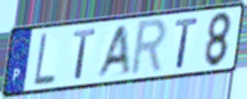8: (202, 11, 233, 70)
A: (94, 23, 132, 81)
L: (32, 31, 57, 86)
R: (128, 16, 169, 79)
T: (71, 27, 98, 82), (174, 16, 200, 70)
